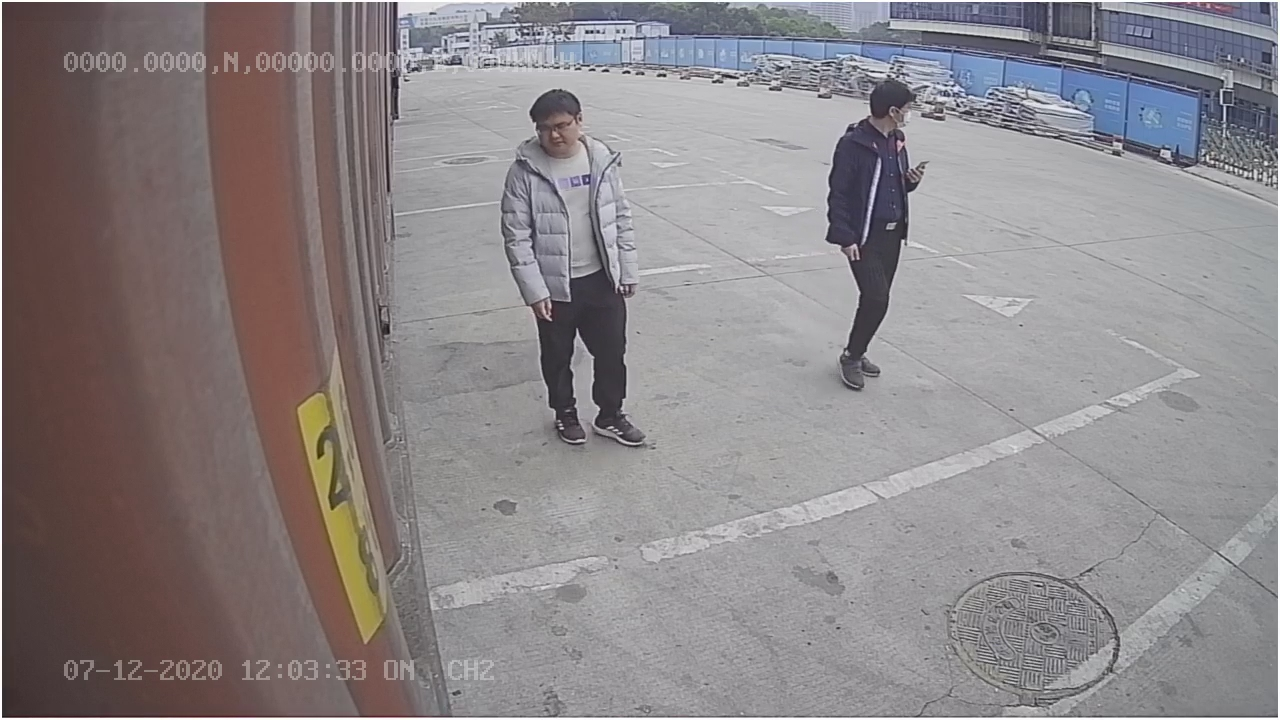person: (494, 84, 646, 448), (823, 79, 929, 390)
